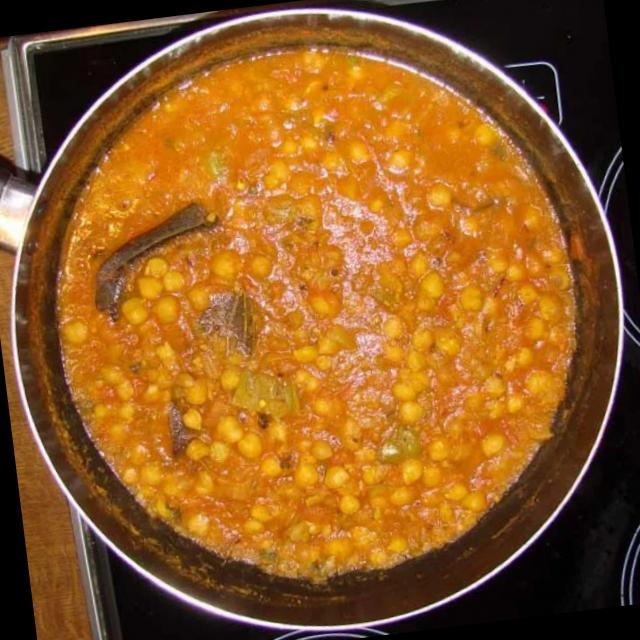Chole: (28, 21, 606, 608)
